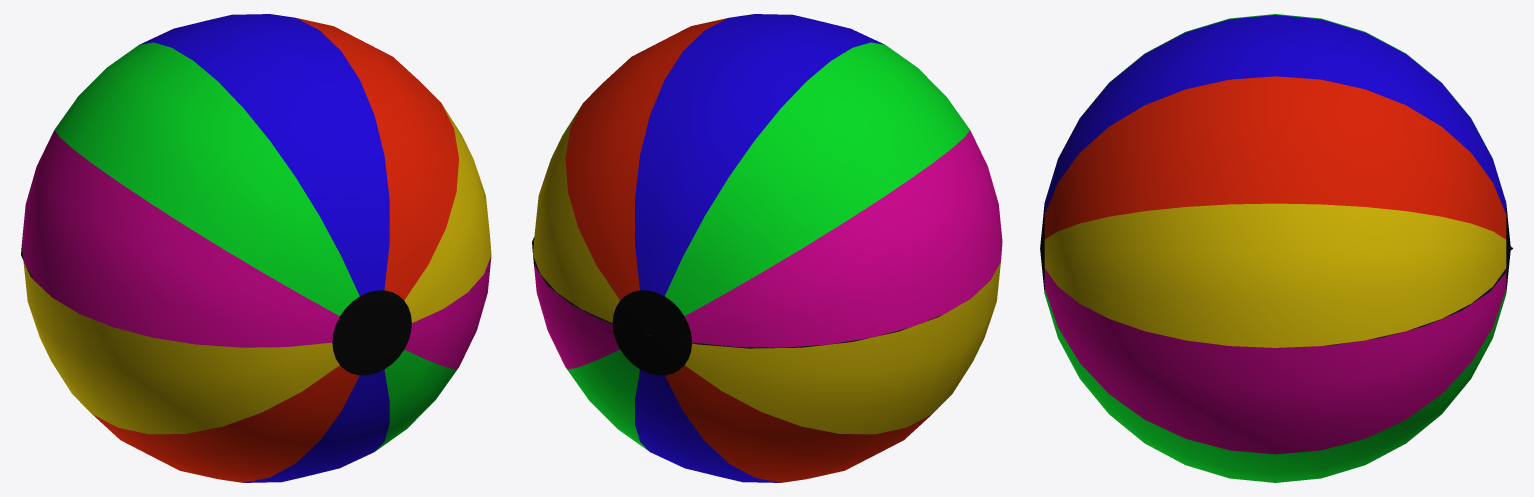
File: BeachBall.fbx
The picture shows the model from 3 angles, left to right: view 1: azimuth 30°, elevation 25°; view 2: azimuth 150°, elevation 25°; view 3: azimuth 270°, elevation 25°; orthographic projection.
Visible parts, largest first — view 1: Ball3D; view 2: Ball3D; view 3: Ball3D.
Boxes of the visible parts, x1,y1,x2,y2 form: Ball3D: (22, 14, 491, 482); Ball3D: (533, 14, 1002, 482); Ball3D: (1040, 14, 1510, 482).
Size of the model in its own units: 2.06 by 1.99 by 2.06.
